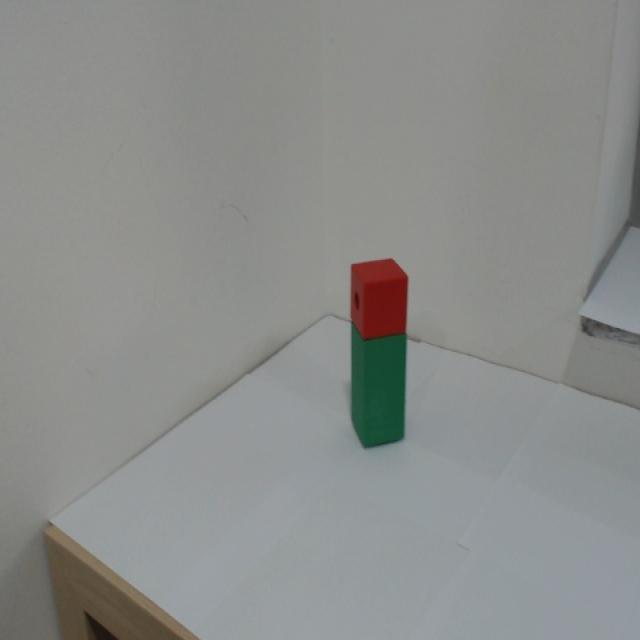cube: (336, 259, 410, 338)
